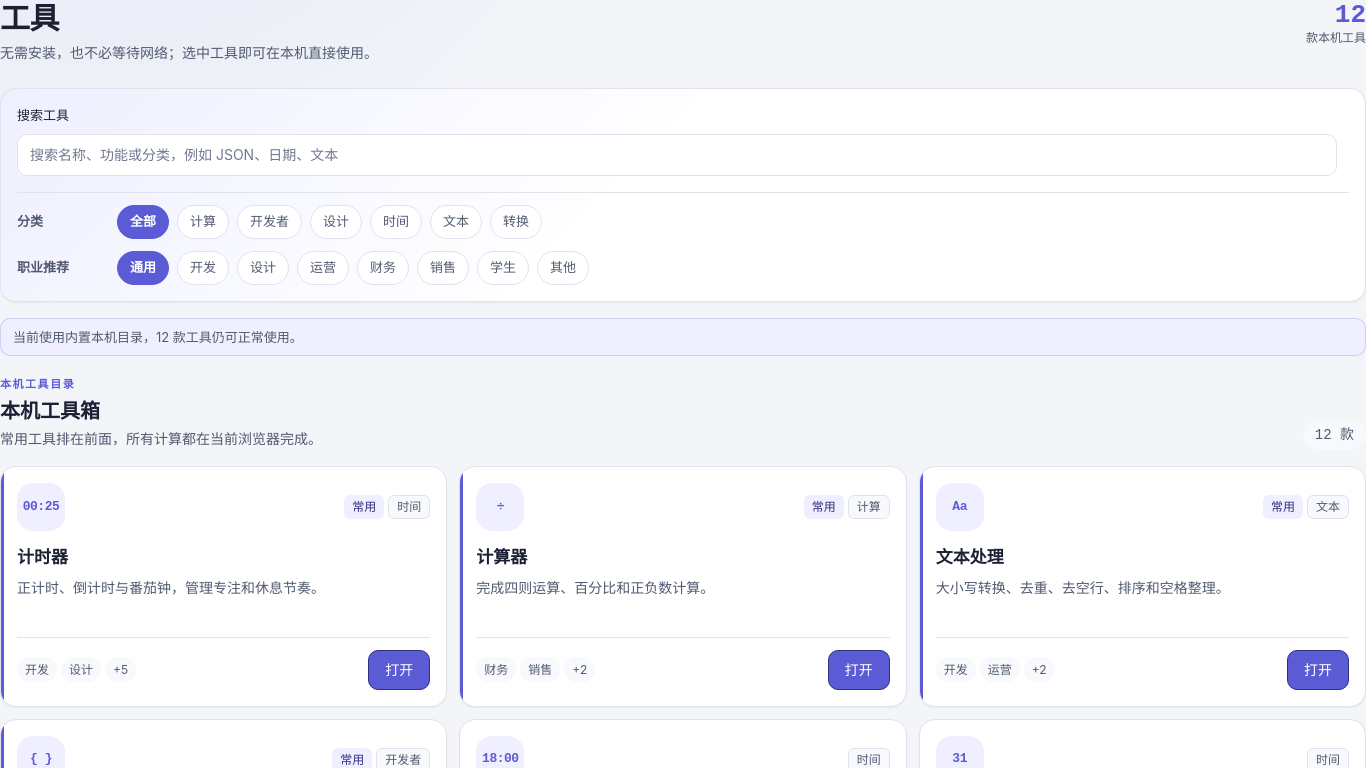
Test case: ToolsPage 本机工具箱 › 目录接口失败时保留 12 项兜底，并且不经 launch API 直接打开
Expected: the text "当前使用内置本机目录，12 款工具仍可正常使用。" is shown, [0,318,1365,356]
Click the button with aria-label "打开计算器": (859, 670) [828,650,890,690]
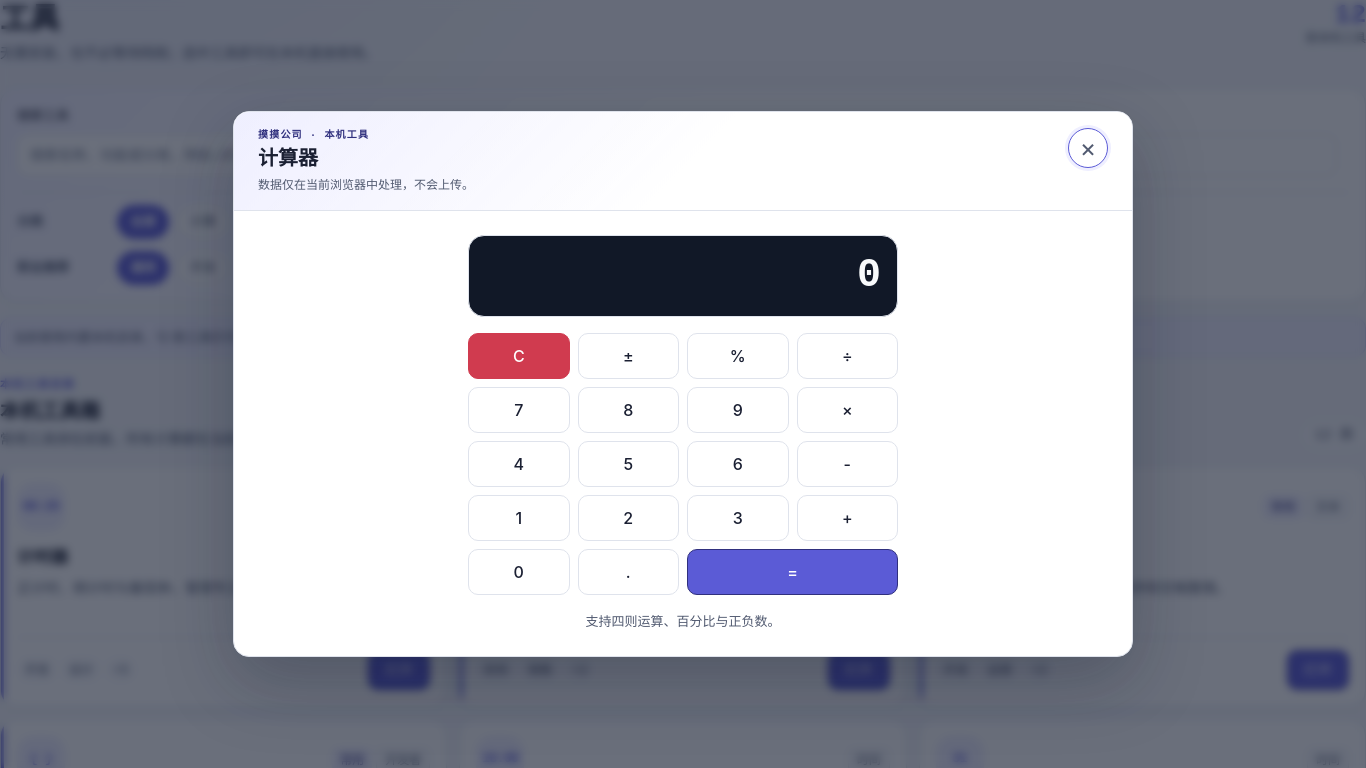
Expected: the dialog "计算器" is shown, [233,111,1133,657]
